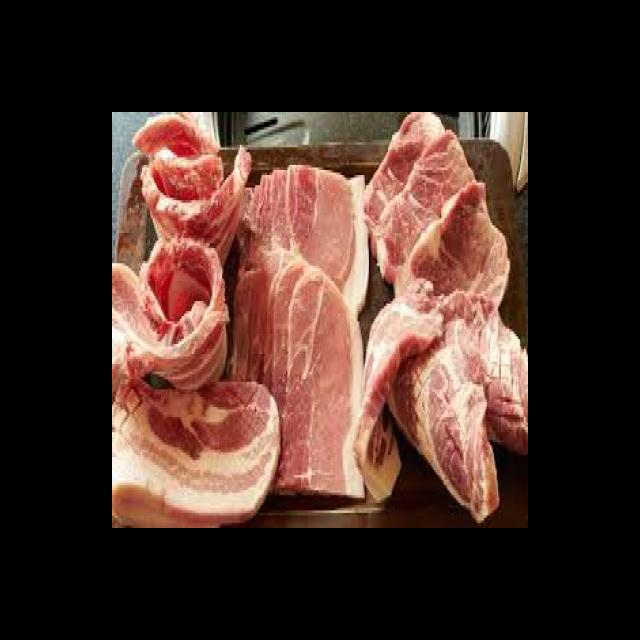pork: (242, 190, 372, 493), (370, 312, 526, 516), (372, 130, 506, 316), (118, 390, 280, 508), (114, 254, 238, 382), (144, 122, 246, 248)
